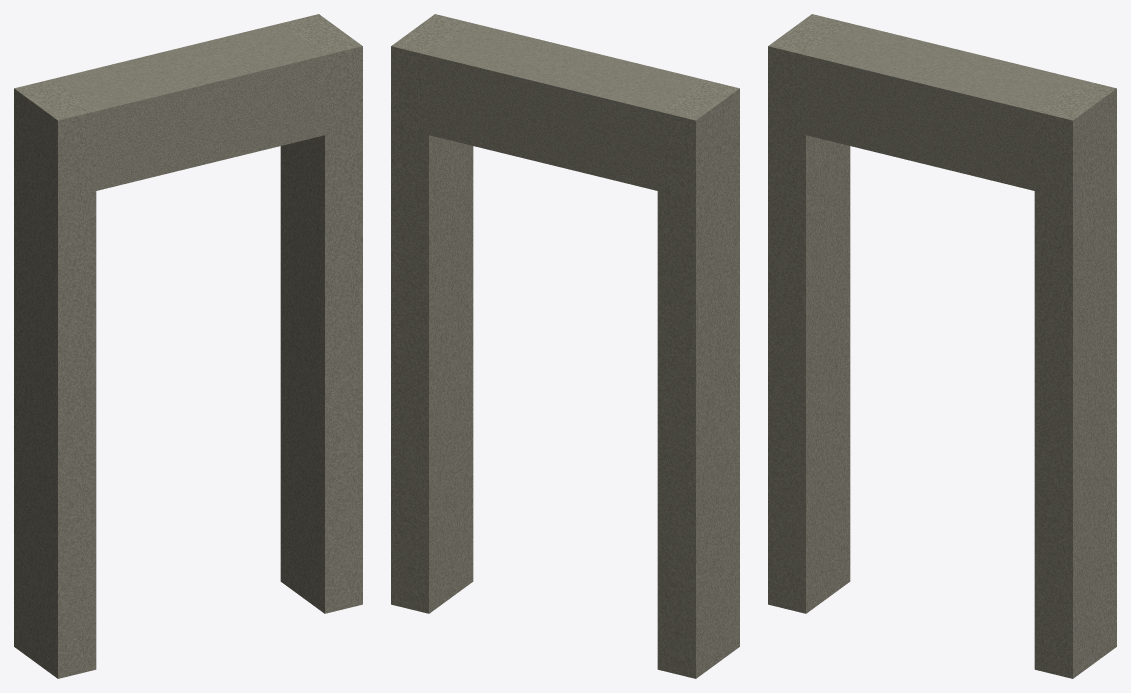
3 views of the same model, side by side, from view 1: azimuth 30°, elevation 25°; view 2: azimuth 150°, elevation 25°; view 3: azimuth 330°, elevation 25° (orthographic).
Visible parts, largest first — view 1: COL_door_jamb, COL_door_jamb.001, COL_door_head; view 2: COL_door_jamb, COL_door_jamb.001, COL_door_head; view 3: COL_door_jamb.001, COL_door_jamb, COL_door_head.
Boxes of the visible parts, <box> form: COL_door_jamb: <box>14,79,96,678</box>; COL_door_jamb.001: <box>280,14,362,613</box>; COL_door_head: <box>52,23,324,190</box>; COL_door_jamb: <box>657,79,739,678</box>; COL_door_jamb.001: <box>391,14,473,613</box>; COL_door_head: <box>429,23,701,190</box>; COL_door_jamb.001: <box>1034,79,1116,678</box>; COL_door_jamb: <box>768,14,850,613</box>; COL_door_head: <box>806,23,1078,190</box>.
Bounding box in the file's own units: 1.6 × 2.8 × 0.4.
Materials: 1 (1 with a texture image).
